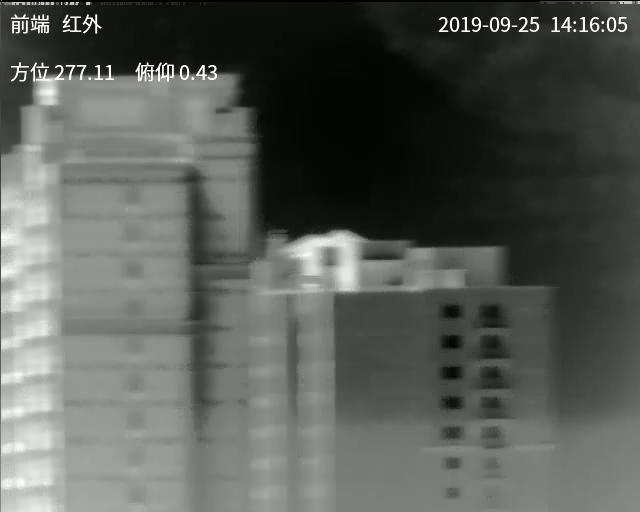uav: (297, 272, 327, 294)
